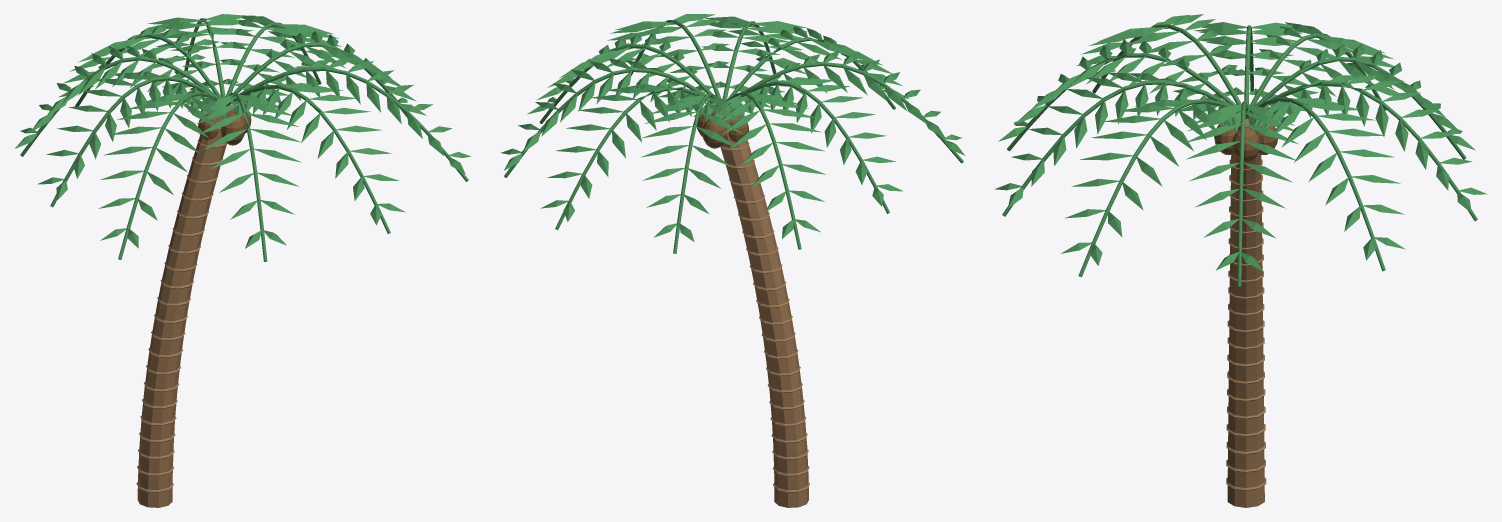
File: palm-3.glb
3 views of the same model, side by side, from view 1: azimuth 30°, elevation 25°; view 2: azimuth 150°, elevation 25°; view 3: azimuth 270°, elevation 25° (orthographic). The views are drawn at different scales.
Visible parts, largest first — view 1: palm-3; view 2: palm-3; view 3: palm-3.
Boxes of the visible parts, box(x1,y1,x2,y2) form: palm-3: box(15, 14, 470, 507); palm-3: box(501, 14, 965, 507); palm-3: box(995, 14, 1487, 507).
Bounding box in the file's own units: 5.39 × 5.81 × 5.54.
